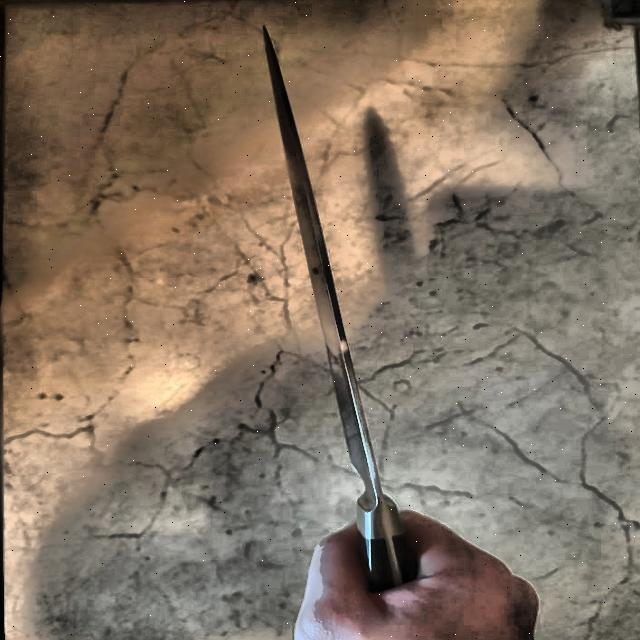knife: (256, 20, 422, 598)
